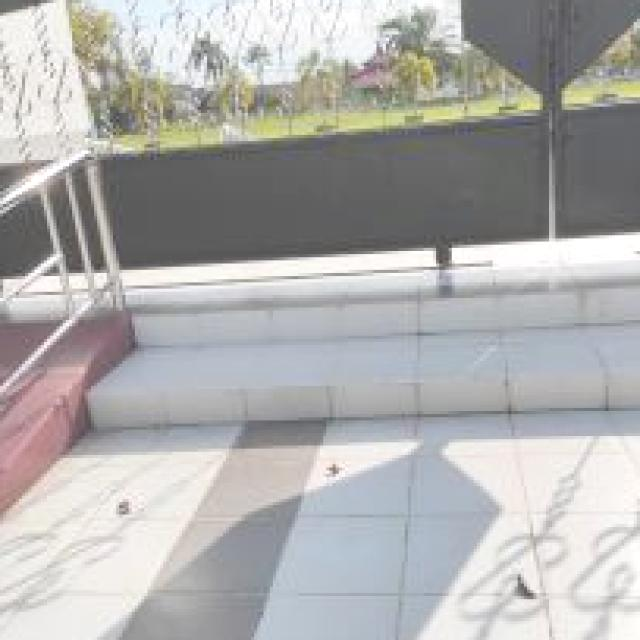upstair: (136, 277, 640, 459)
